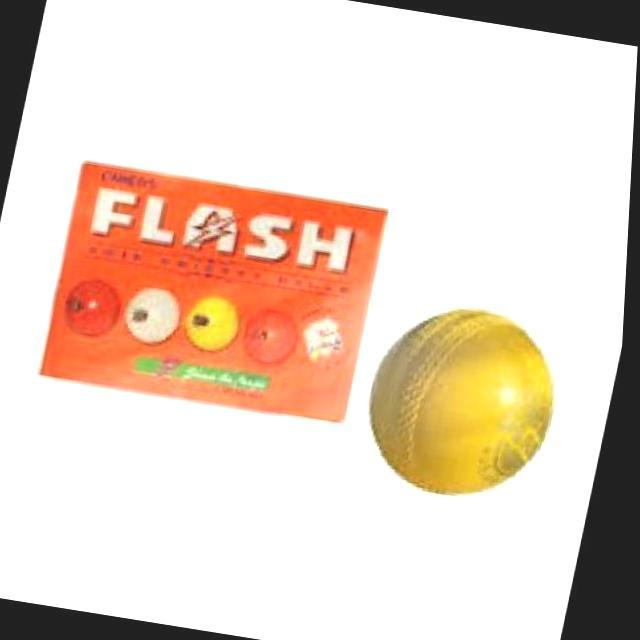-: (366, 282, 592, 507)
